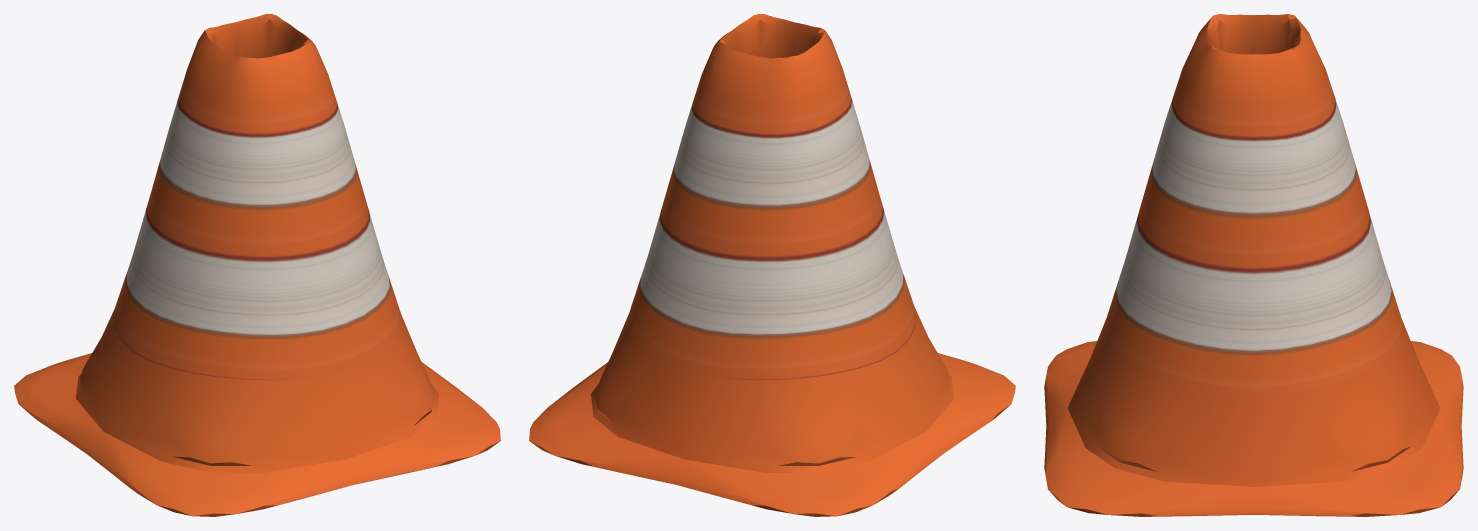
3 views of the same model, side by side, from view 1: azimuth 30°, elevation 25°; view 2: azimuth 150°, elevation 25°; view 3: azimuth 270°, elevation 25° (orthographic). The views are drawn at different scales.
Parts seen in each view (by area): view 1: conusoid; view 2: conusoid; view 3: conusoid.
Part boxes in pixels (box(x1,y1,x2,y2)): conusoid: box(14, 14, 500, 516); conusoid: box(529, 14, 1015, 516); conusoid: box(1044, 14, 1463, 516).
Bounding box in the file's own units: 78.61 × 82.85 × 78.61.
